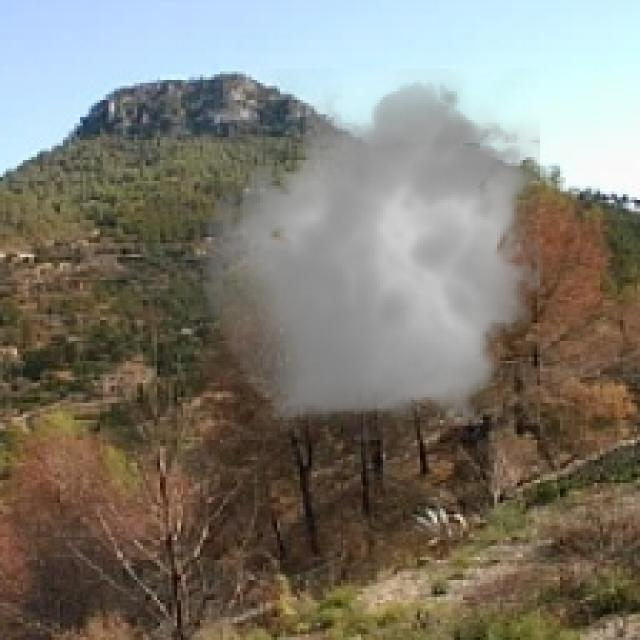Smoke: (192, 68, 557, 440)
